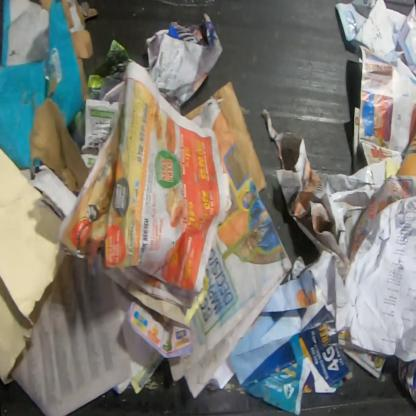cardboard: (0, 0, 100, 194), (212, 81, 268, 195), (184, 103, 204, 120)
